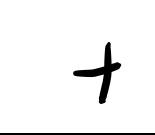plus: (72, 41, 120, 104)
